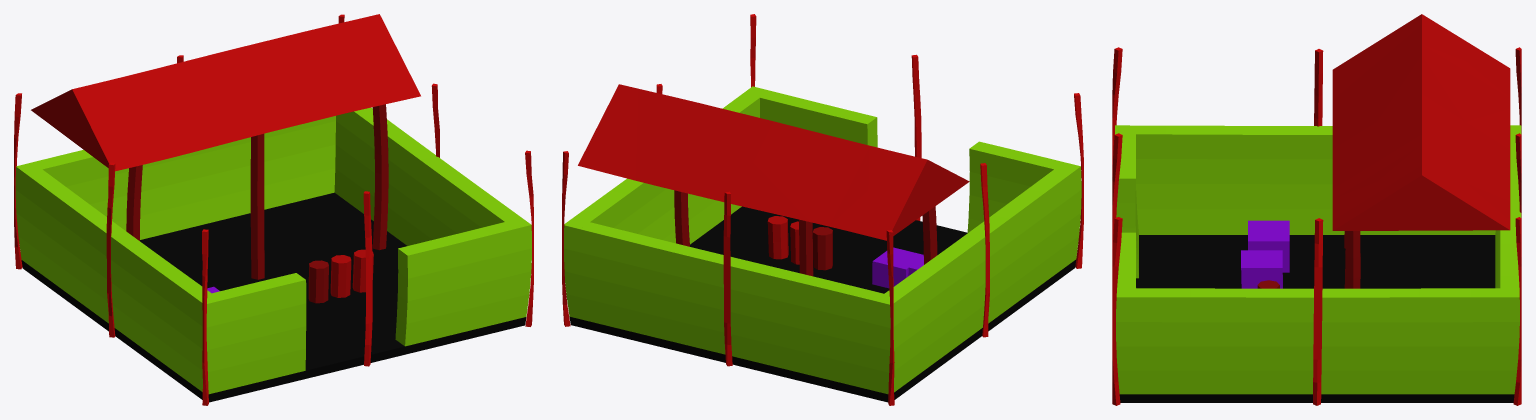
Rendered from storehouse.glb.
The picture shows the model from 3 angles, left to right: view 1: azimuth 30°, elevation 25°; view 2: azimuth 150°, elevation 25°; view 3: azimuth 270°, elevation 25°; orthographic projection. The views are drawn at different scales.
Visible parts, largest first — view 1: storehouse; view 2: storehouse; view 3: storehouse.
Part boxes in pixels (box(x1,y1,x2,y2)): storehouse: box(14, 14, 533, 405); storehouse: box(562, 14, 1083, 405); storehouse: box(1112, 14, 1521, 405).
Size of the model in its own units: 3 by 1.83 by 3.
